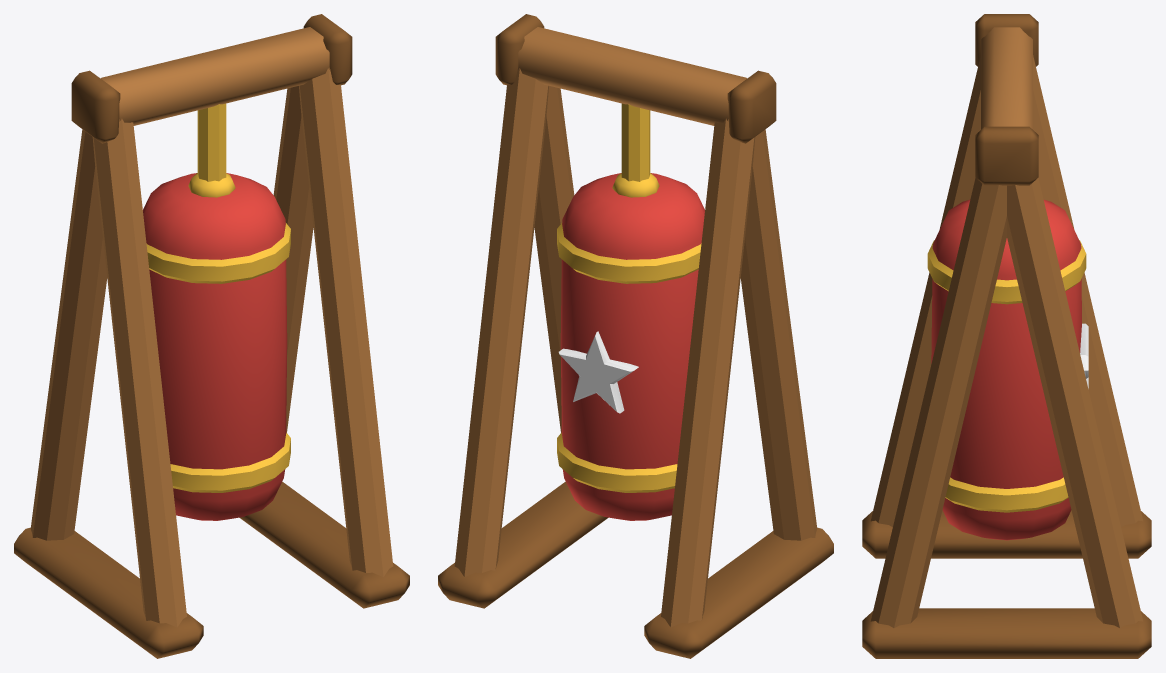
The model's file is Equip_sandbag.glb.
The picture shows the model from 3 angles, left to right: view 1: azimuth 30°, elevation 25°; view 2: azimuth 150°, elevation 25°; view 3: azimuth 270°, elevation 25°; orthographic projection.
Visible parts, largest first — view 1: Wood_B5793F, Bag_E0453C, DarkWood_8A5A2B, Yellow_FFC83D; view 2: Wood_B5793F, Bag_E0453C, DarkWood_8A5A2B, Yellow_FFC83D, White_FFFFFF; view 3: Wood_B5793F, DarkWood_8A5A2B, Bag_E0453C, Yellow_FFC83D.
Part boxes in pixels (x1,y1,x2,y2): Wood_B5793F: [30, 27, 393, 627]; Bag_E0453C: [143, 173, 287, 520]; DarkWood_8A5A2B: [14, 14, 409, 658]; Yellow_FFC83D: [146, 103, 290, 492]; Wood_B5793F: [454, 27, 817, 627]; Bag_E0453C: [560, 173, 704, 520]; DarkWood_8A5A2B: [438, 14, 833, 658]; Yellow_FFC83D: [557, 103, 701, 492]; White_FFFFFF: [558, 331, 638, 413]; Wood_B5793F: [870, 27, 1143, 627]; DarkWood_8A5A2B: [862, 14, 1151, 658]; Bag_E0453C: [931, 199, 1081, 540]; Yellow_FFC83D: [927, 240, 1086, 512].
Size of the model in its own units: 4.1 by 7.85 by 3.9.
